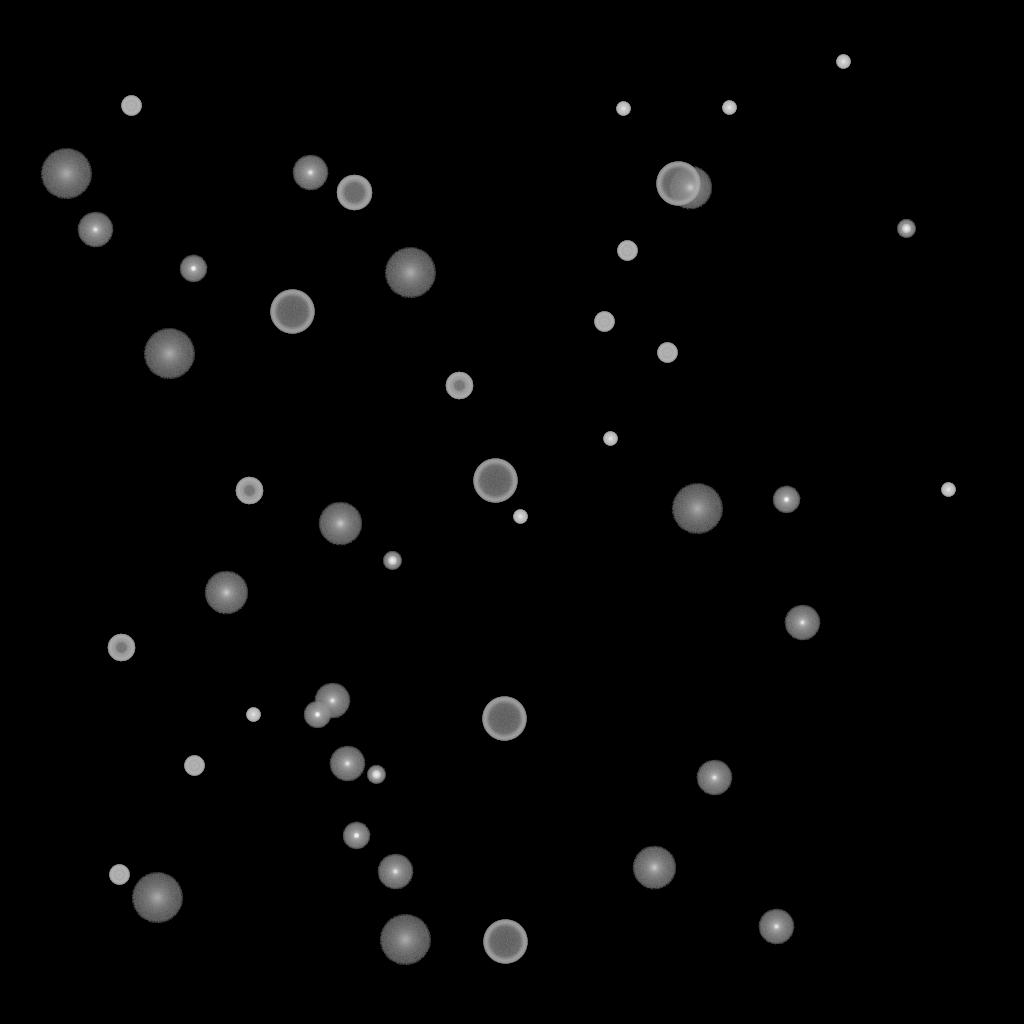depth:-10: (303, 701, 331, 729), (179, 255, 207, 283), (342, 822, 370, 850), (772, 486, 800, 514)
depth:-20: (367, 766, 385, 784), (897, 220, 915, 238), (383, 552, 401, 570)
depth:-30: (722, 101, 736, 115), (246, 708, 260, 722), (941, 483, 955, 497), (603, 432, 617, 446), (836, 55, 850, 69), (513, 510, 527, 524), (616, 102, 630, 116)
depth:-40: (657, 343, 677, 363), (109, 865, 129, 885), (617, 241, 637, 261), (184, 756, 204, 776), (594, 312, 614, 332), (121, 96, 141, 116)
depth:-50: (107, 634, 135, 662), (235, 477, 263, 505), (445, 372, 473, 400)
depth:-60: (336, 175, 372, 211)
depth:-70: (483, 920, 527, 964), (473, 459, 517, 503), (270, 290, 314, 334), (656, 162, 700, 206), (482, 697, 526, 741)
depth:0: (784, 605, 820, 641), (758, 909, 794, 945), (314, 683, 350, 719), (329, 746, 365, 782), (292, 155, 328, 191), (377, 854, 413, 890), (696, 760, 732, 796), (77, 212, 113, 248)
depth:10: (668, 166, 712, 210), (318, 502, 362, 546), (632, 846, 676, 890), (204, 571, 248, 615)
depth:20: (143, 329, 195, 379), (40, 149, 92, 199), (131, 873, 183, 923), (671, 484, 723, 534), (379, 915, 431, 965), (384, 248, 436, 298)
